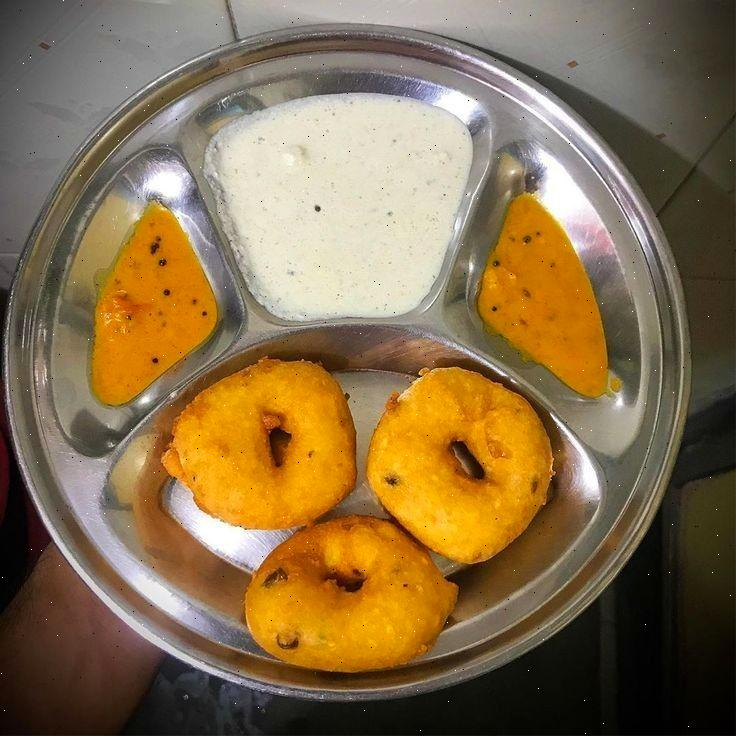coconut chutney: (211, 111, 481, 322)
medu vada: (162, 370, 549, 682)
sambhar: (78, 221, 227, 401), (491, 201, 621, 405)
